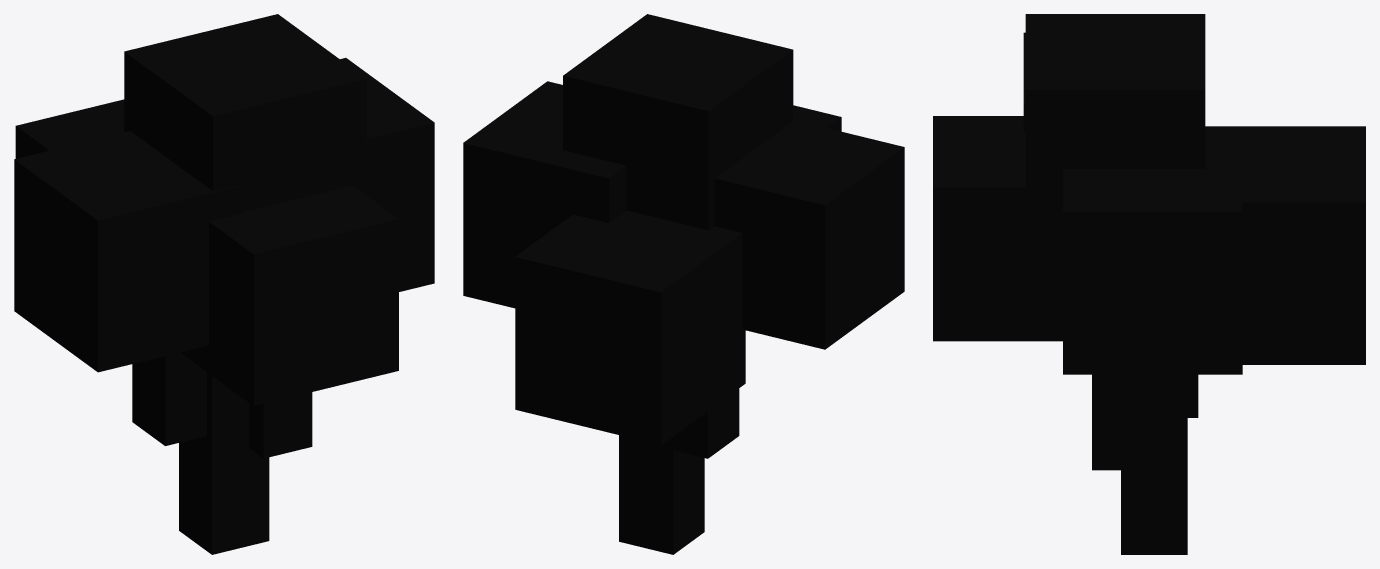
Rendered from tree1.obj.
The picture shows the model from 3 angles, left to right: view 1: azimuth 30°, elevation 25°; view 2: azimuth 150°, elevation 25°; view 3: azimuth 270°, elevation 25°; orthographic projection. The views are drawn at different scales.
Parts seen in each view (by area): view 1: Cube.007_Cube.010, Cube.011_Cube.014, Cube.013_Cube.017, Cube.006_Cube.009, Cube.010_Cube.013, Cube.008_Cube.011, Cube.012_Cube.015, Cube.009_Cube.012; view 2: Cube.012_Cube.015, Cube.007_Cube.010, Cube.013_Cube.017, Cube.010_Cube.013, Cube.006_Cube.009, Cube.008_Cube.011, Cube.011_Cube.014; view 3: Cube.010_Cube.013, Cube.013_Cube.017, Cube.012_Cube.015, Cube.011_Cube.014, Cube.006_Cube.009, Cube.009_Cube.012, Cube.008_Cube.011.
Boxes of the visible parts, x1=… form: Cube.007_Cube.010: x1=14, y1=131, x2=242, y2=372; Cube.011_Cube.014: x1=180, y1=185, x2=398, y2=405; Cube.013_Cube.017: x1=124, y1=14, x2=366, y2=212; Cube.006_Cube.009: x1=179, y1=372, x2=269, y2=554; Cube.010_Cube.013: x1=340, y1=58, x2=434, y2=291; Cube.008_Cube.011: x1=132, y1=352, x2=206, y2=445; Cube.012_Cube.015: x1=15, y1=99, x2=124, y2=158; Cube.009_Cube.012: x1=249, y1=392, x2=312, y2=458; Cube.012_Cube.015: x1=515, y1=210, x2=745, y2=445; Cube.007_Cube.010: x1=714, y1=120, x2=904, y2=349; Cube.013_Cube.017: x1=563, y1=14, x2=793, y2=230; Cube.010_Cube.013: x1=463, y1=81, x2=626, y2=308; Cube.006_Cube.009: x1=619, y1=435, x2=704, y2=554; Cube.008_Cube.011: x1=653, y1=388, x2=739, y2=458; Cube.011_Cube.014: x1=793, y1=105, x2=841, y2=131; Cube.010_Cube.013: x1=1063, y1=136, x2=1242, y2=374; Cube.013_Cube.017: x1=1025, y1=14, x2=1205, y2=254; Cube.012_Cube.015: x1=1205, y1=126, x2=1365, y2=364; Cube.011_Cube.014: x1=933, y1=116, x2=1062, y2=341; Cube.006_Cube.009: x1=1121, y1=374, x2=1187, y2=554; Cube.009_Cube.012: x1=1092, y1=374, x2=1148, y2=470; Cube.008_Cube.011: x1=1187, y1=374, x2=1198, y2=417.
Size of the model in its own units: 0.9657 by 1.25 by 1.
